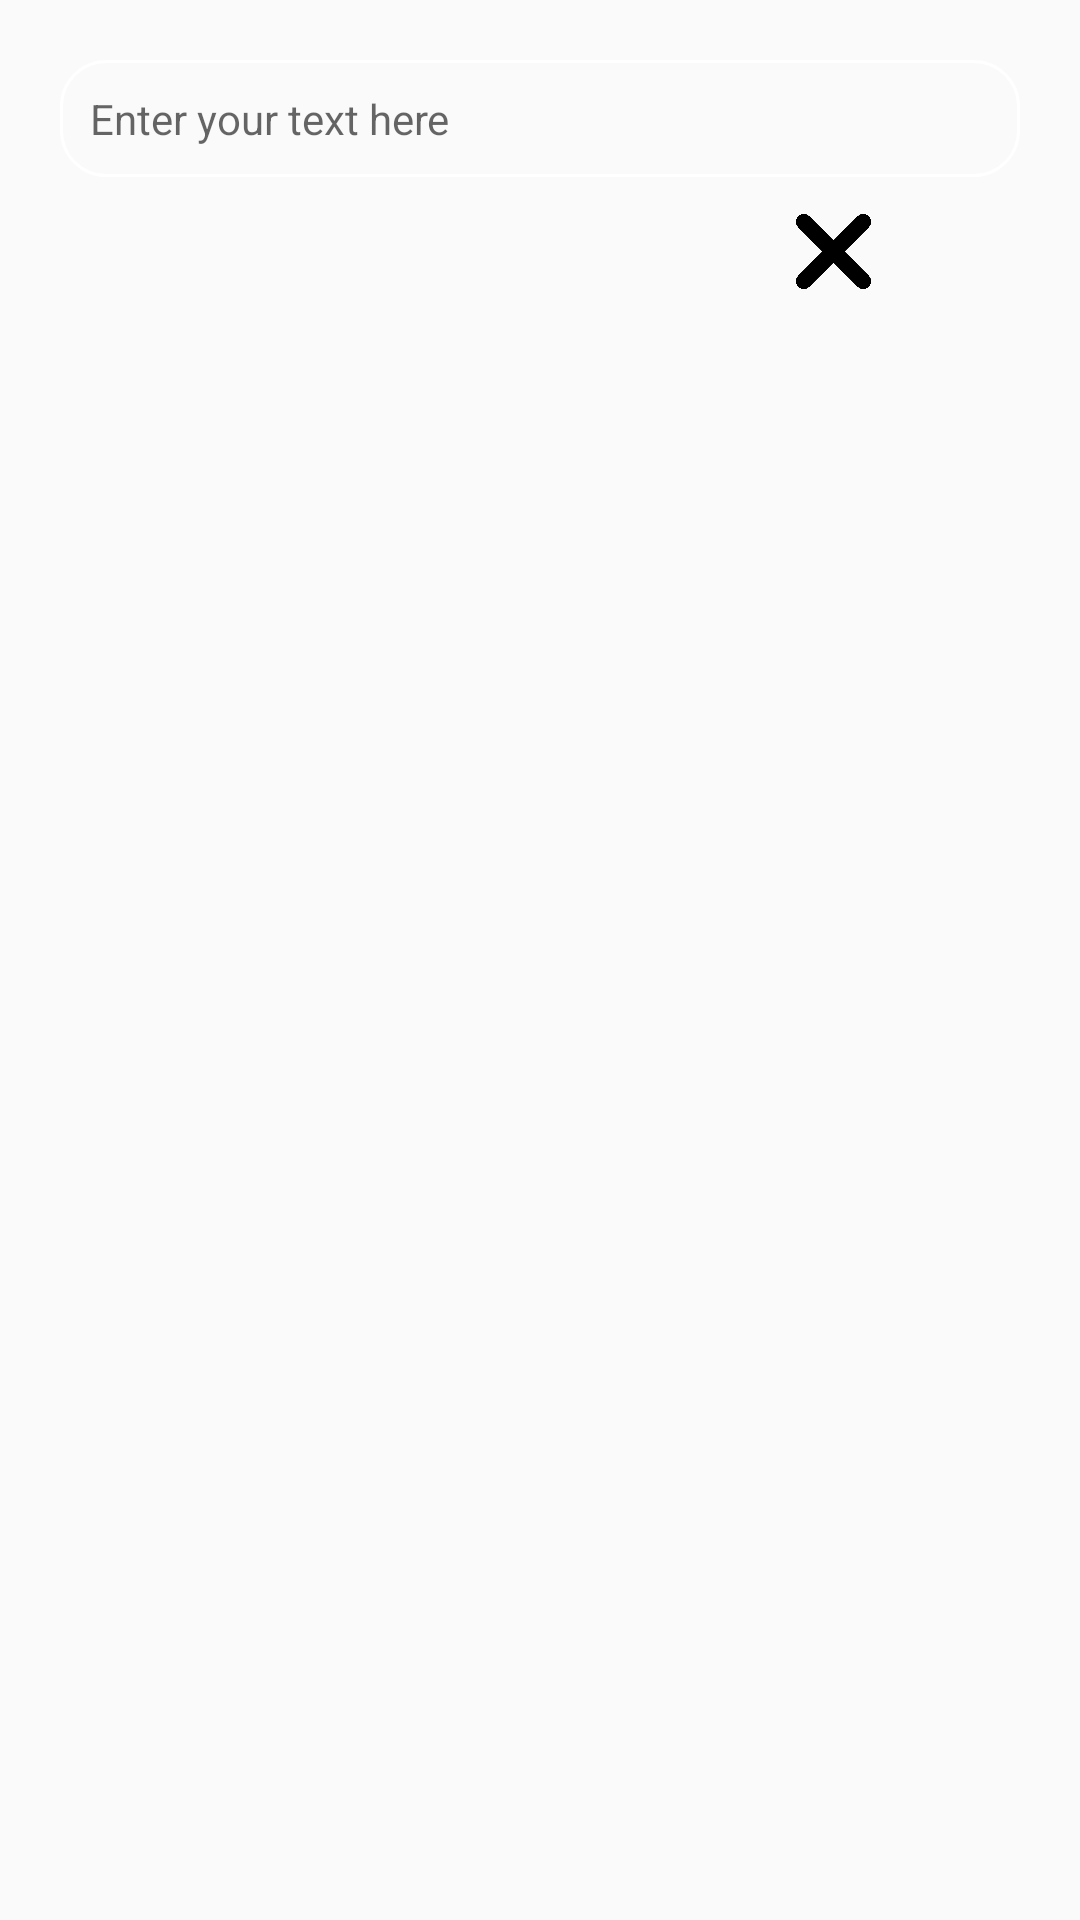

Where icons sit on this 1080×1920 app screen, as (x1, y1, x2, y2):
close: (796, 214, 871, 289)
